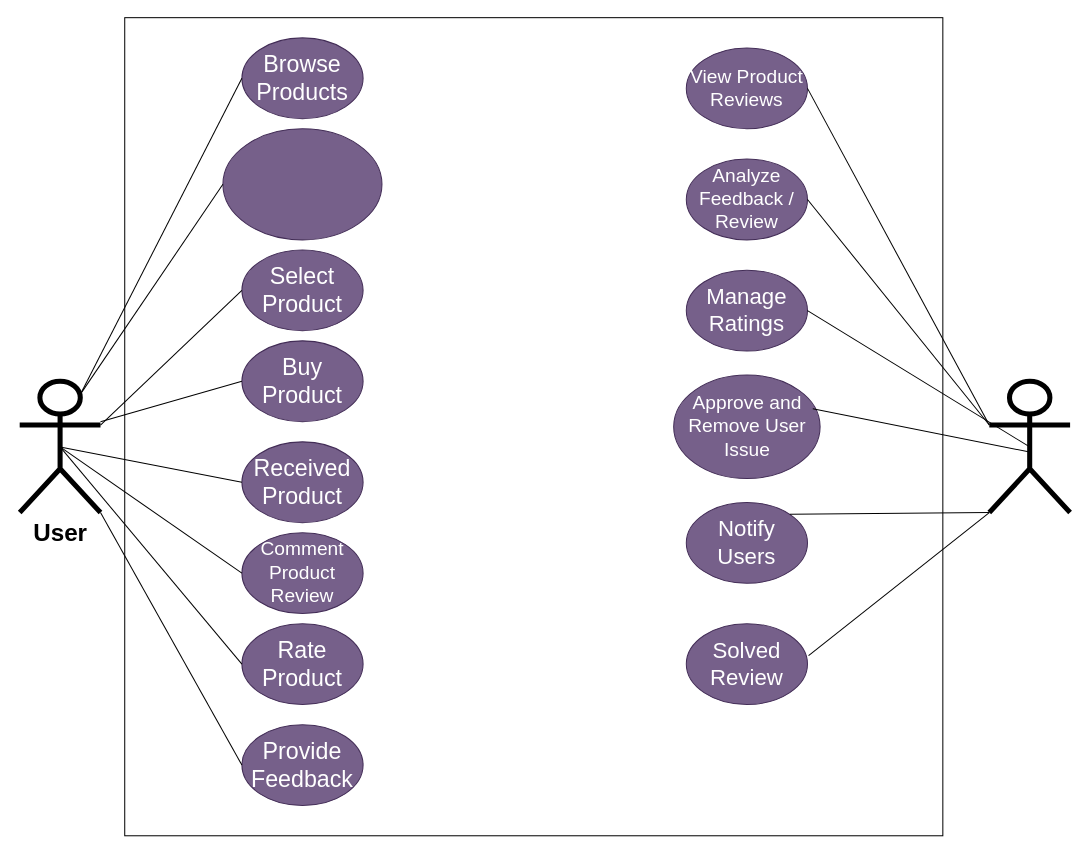
This 1090x853 diagram has some shape labels left out. Each missing label, with the centre of its shape:
Admin: the point at 1029,446
Check other Customer Reviews & Ratings.: the point at 302,184
